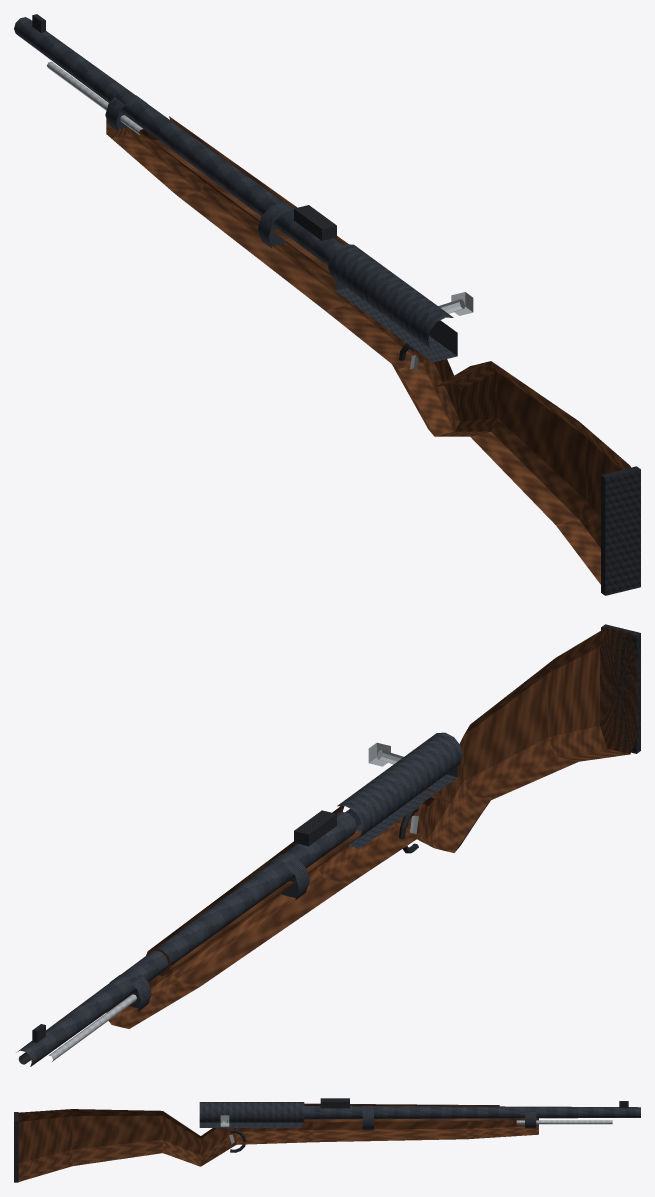
File: m24_mauser.glb
The picture shows the model from 3 angles, top to bottom: view 1: azimuth 30°, elevation 25°; view 2: azimuth 150°, elevation 25°; view 3: azimuth 270°, elevation 25°; orthographic projection. The views are drawn at different scales.
Visible parts, largest first — view 1: WeaponMesh; view 2: WeaponMesh; view 3: WeaponMesh.
Part boxes in pixels (bbox=[...]): WeaponMesh: bbox=[14, 14, 640, 595]; WeaponMesh: bbox=[16, 624, 640, 1066]; WeaponMesh: bbox=[14, 1098, 640, 1182].
Bounding box in the file's own units: 0.0735 × 0.154 × 1.11.
Materials: 4 (4 with a texture image).
